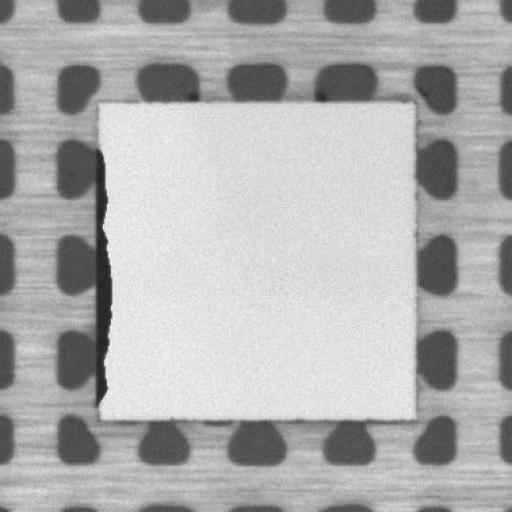DIE_BROKEN: (91, 144, 114, 404)
